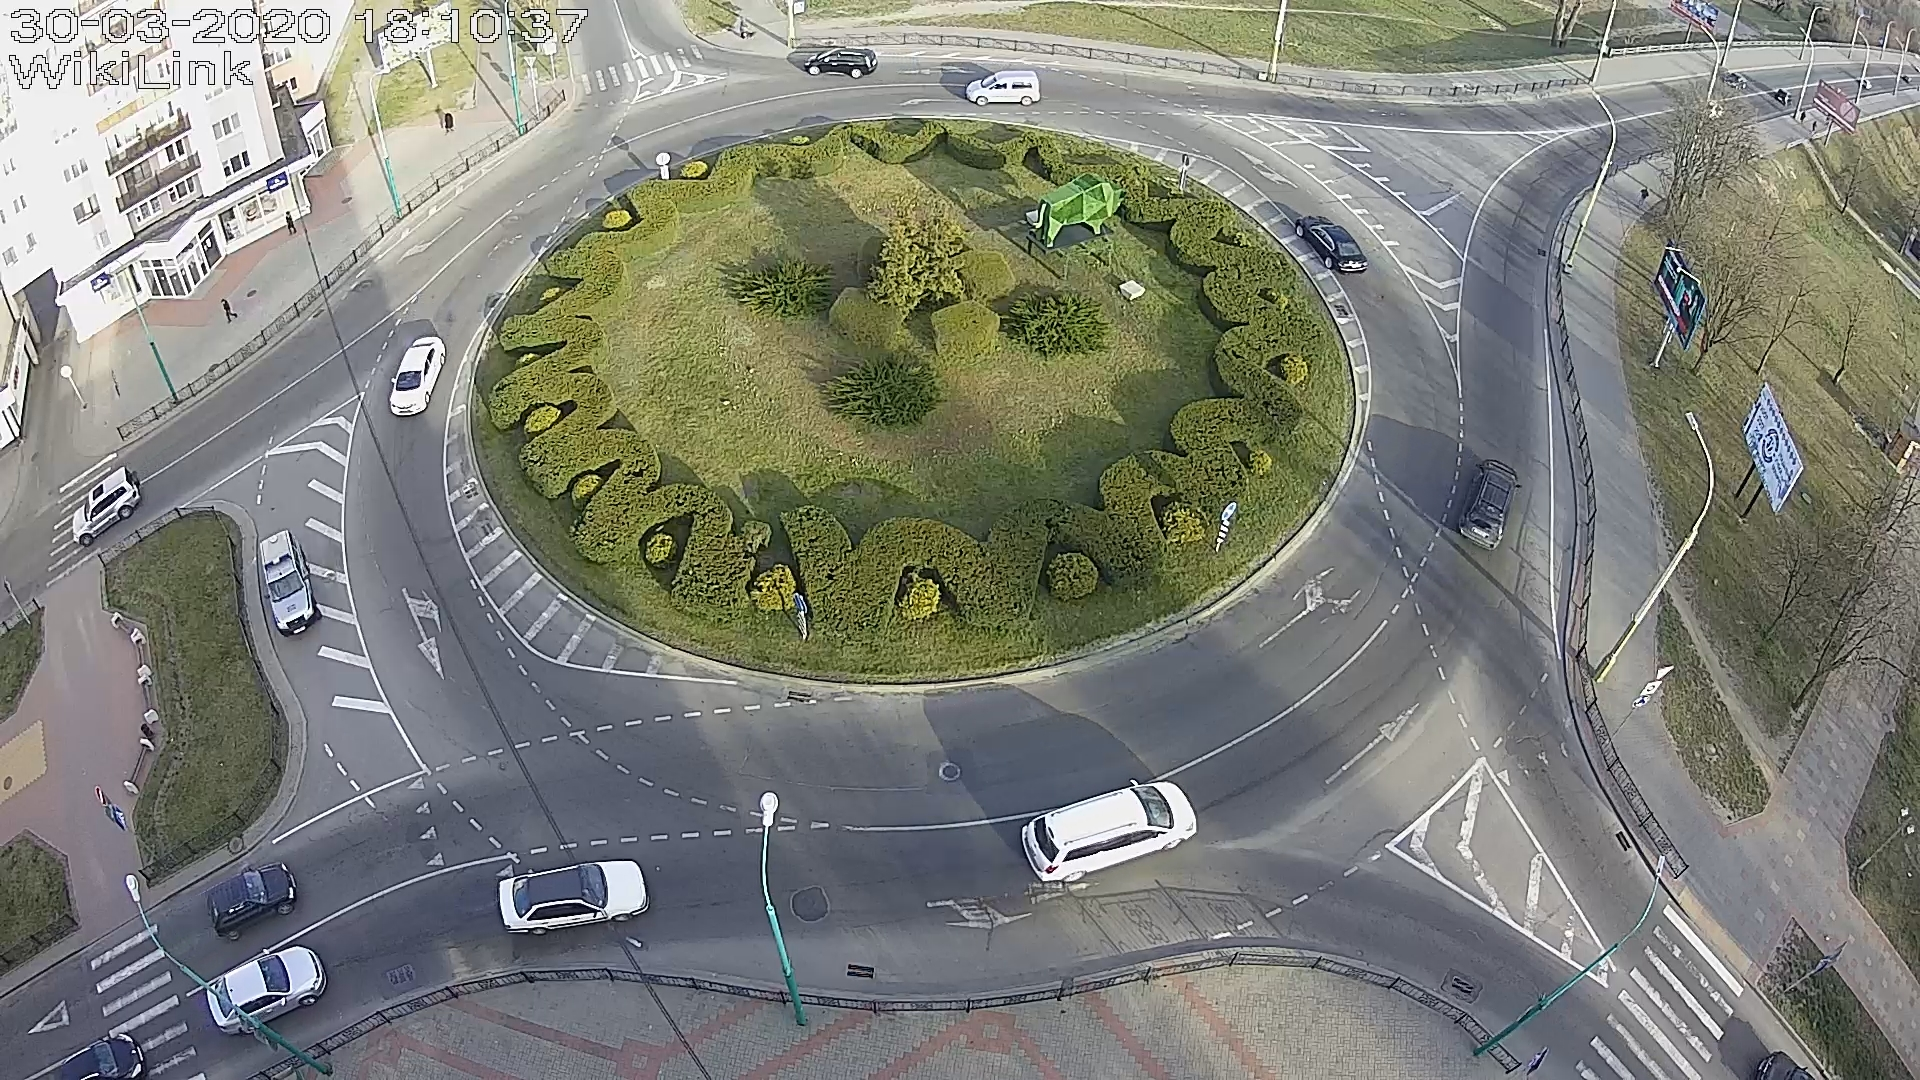car: (1021, 777, 1197, 884), (497, 858, 649, 936), (206, 945, 328, 1035), (207, 862, 295, 942), (258, 529, 322, 637), (1457, 458, 1522, 551), (73, 465, 142, 547), (50, 1033, 146, 1080), (389, 336, 446, 417), (1295, 216, 1369, 276), (965, 70, 1040, 107), (804, 47, 878, 79)
